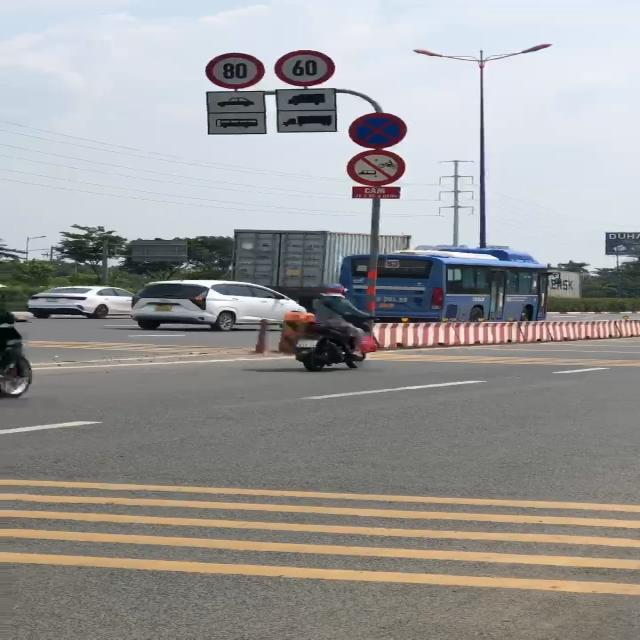Bien bao cam dung xe va do xe: (344, 110, 411, 150)
Bien bao toc do toi da cho phep: (266, 47, 344, 87), (205, 50, 267, 90)
